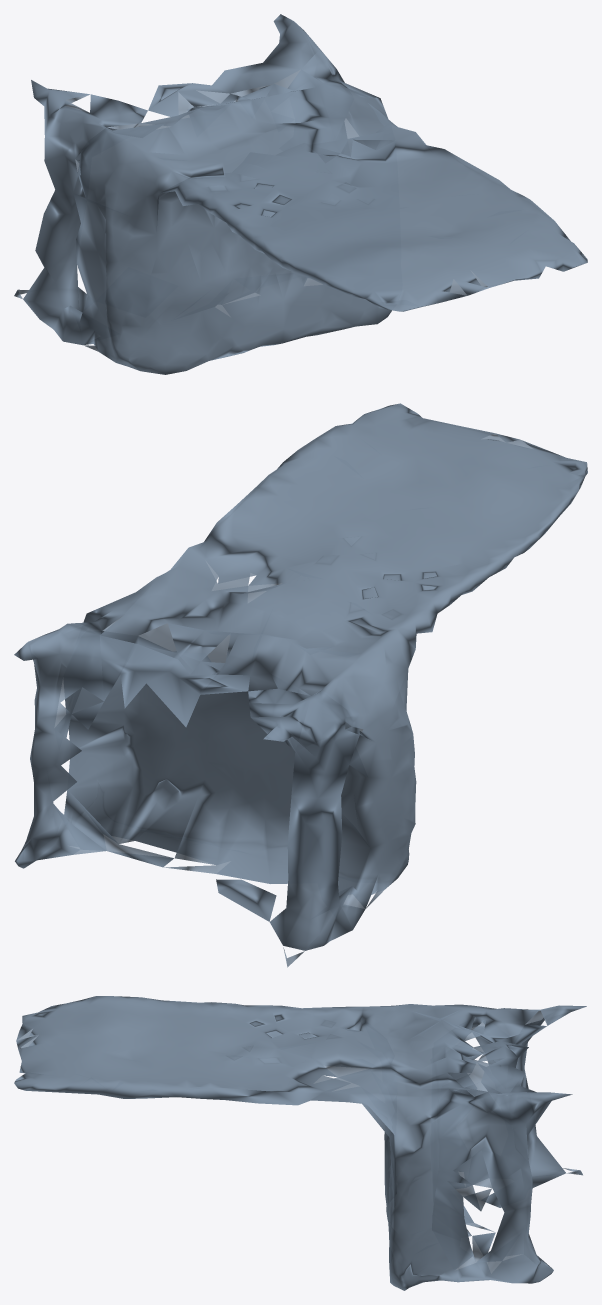
The model's file is chair_0470_recon.obj.
The picture shows the model from 3 angles, top to bottom: view 1: azimuth 30°, elevation 25°; view 2: azimuth 150°, elevation 25°; view 3: azimuth 270°, elevation 25°; orthographic projection. The views are drawn at different scales.
Bounding box in the file's own units: 0.809 × 0.6186 × 1.6.
